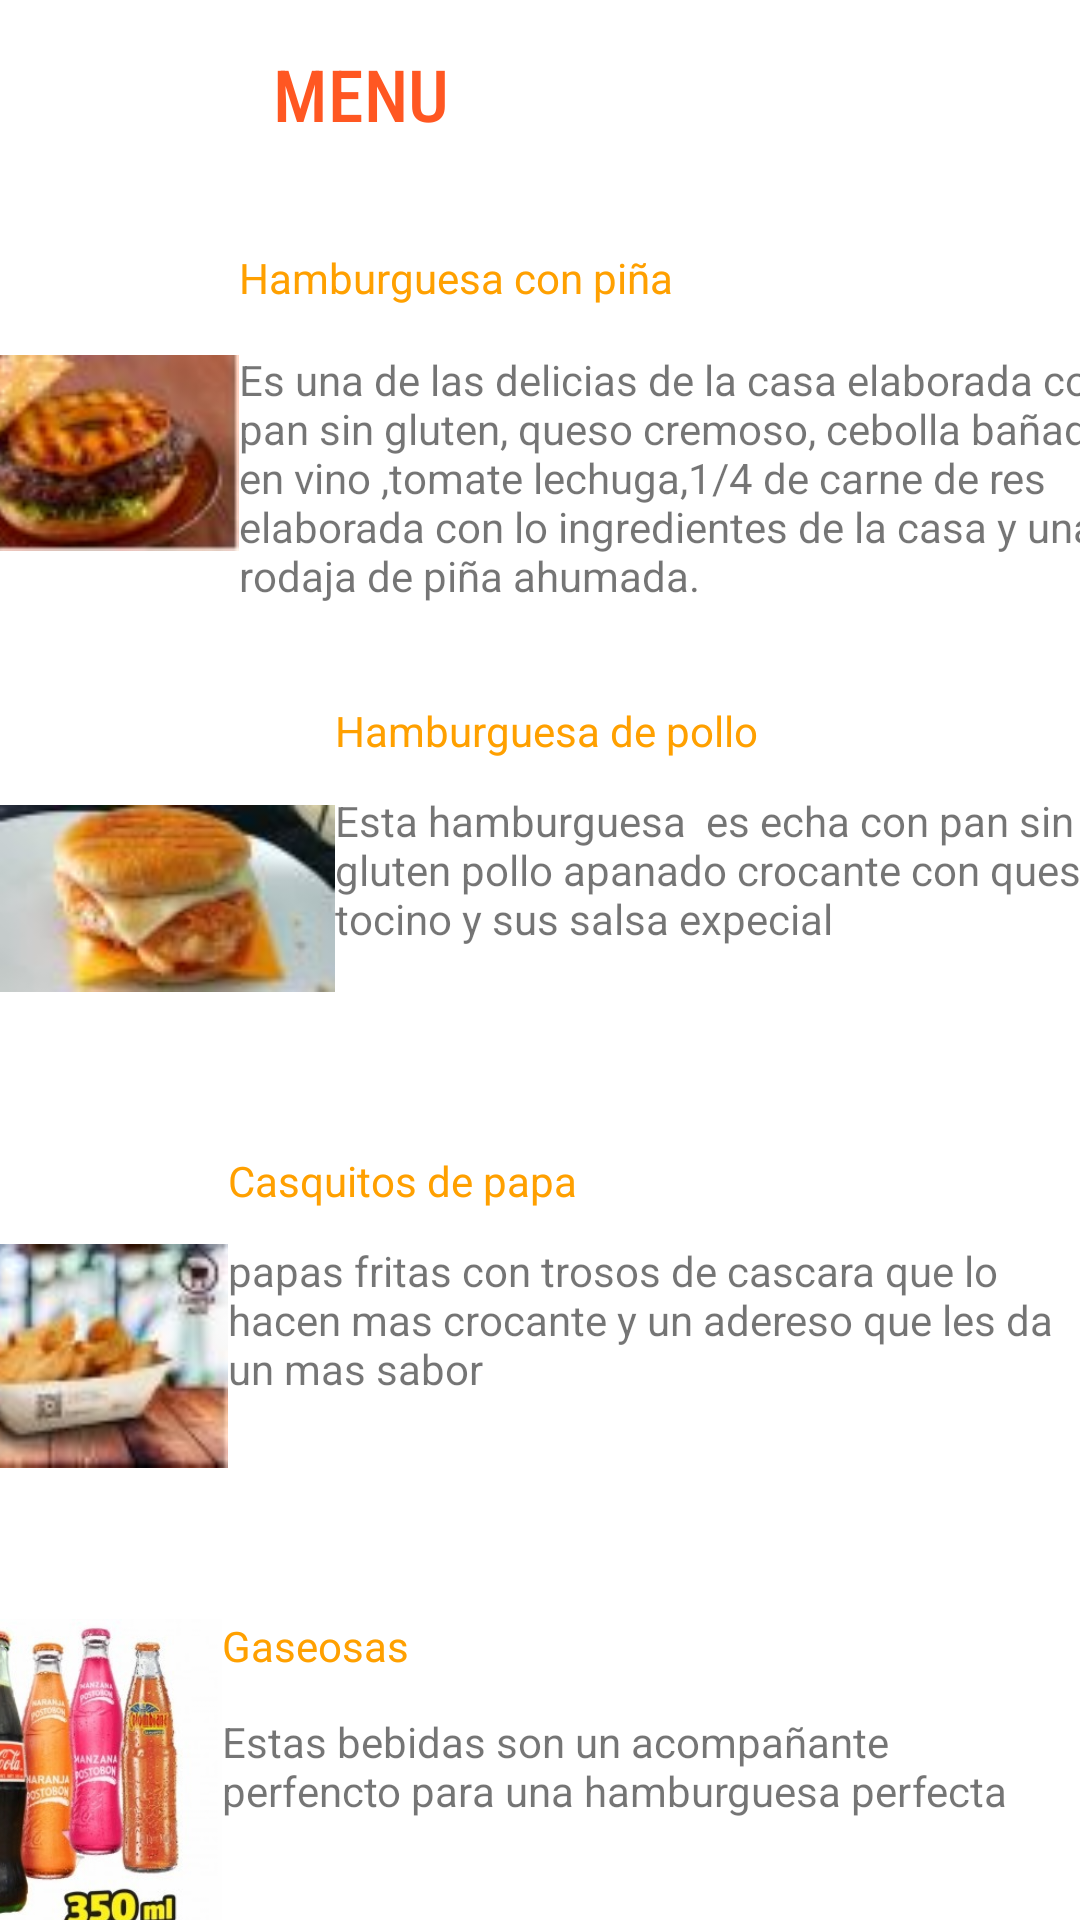

Icons on this 1080 x 1920 Android screen, each with the point to tap as (x,y):
hamburgesapollo: (167,898)
